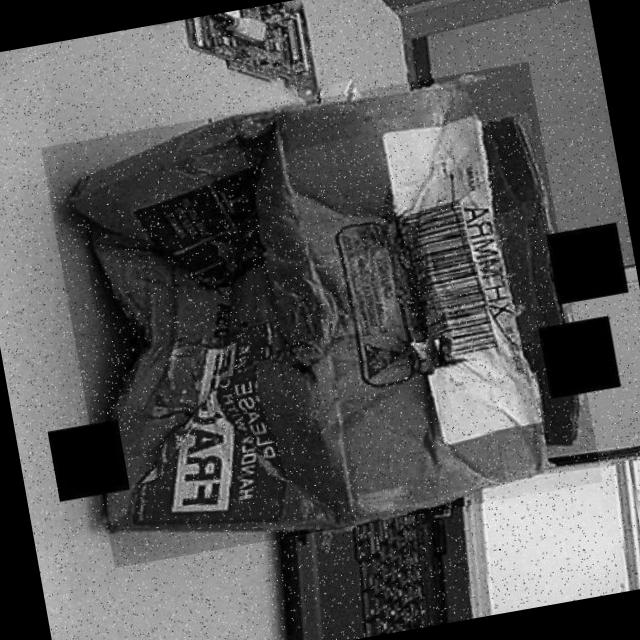box: (39, 61, 602, 568)
